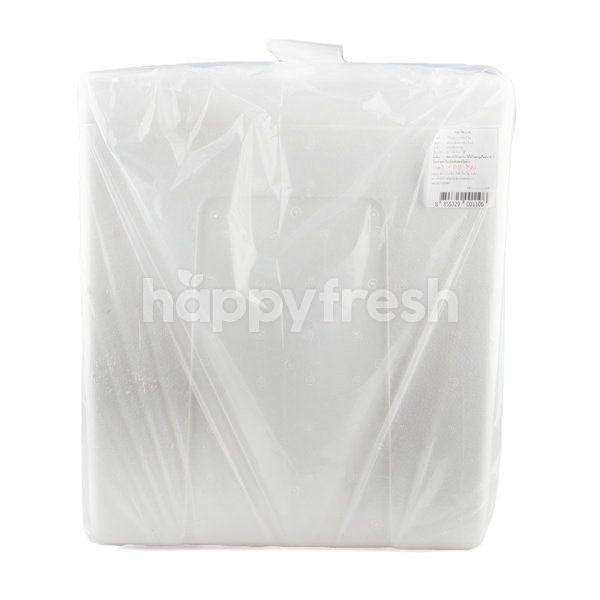Foam Box: (69, 32, 512, 556)
